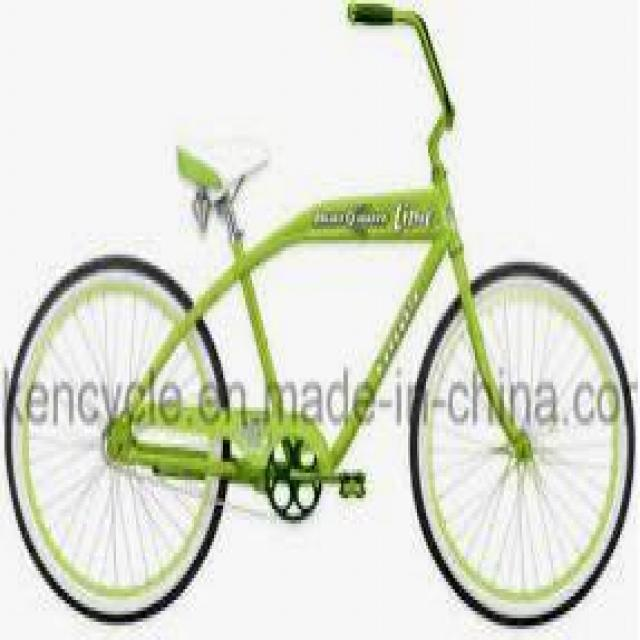bicycle: (3, 12, 637, 609)
